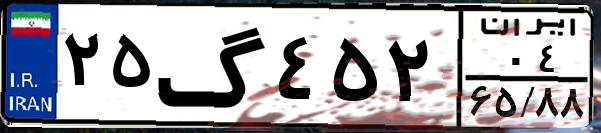0: (508, 27, 537, 80)
2: (385, 28, 445, 110), (57, 26, 110, 100)
4: (270, 28, 330, 110), (537, 27, 568, 80)
5: (330, 28, 385, 110), (110, 28, 156, 98), (495, 70, 520, 125)
6: (470, 70, 495, 125)
8: (560, 70, 590, 125), (535, 70, 560, 125)
گ: (156, 12, 270, 120)
